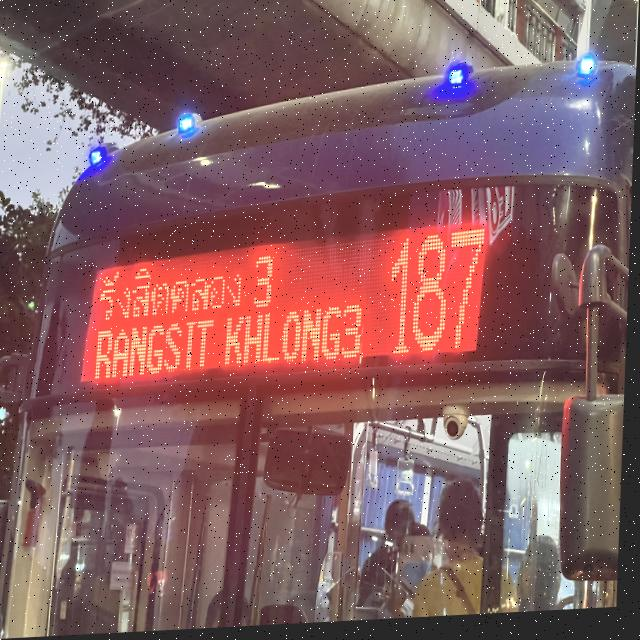Bus Line Number: (370, 222, 521, 378)
Destination Sign: (76, 247, 372, 391)
TSB-Bus: (0, 43, 638, 640)
